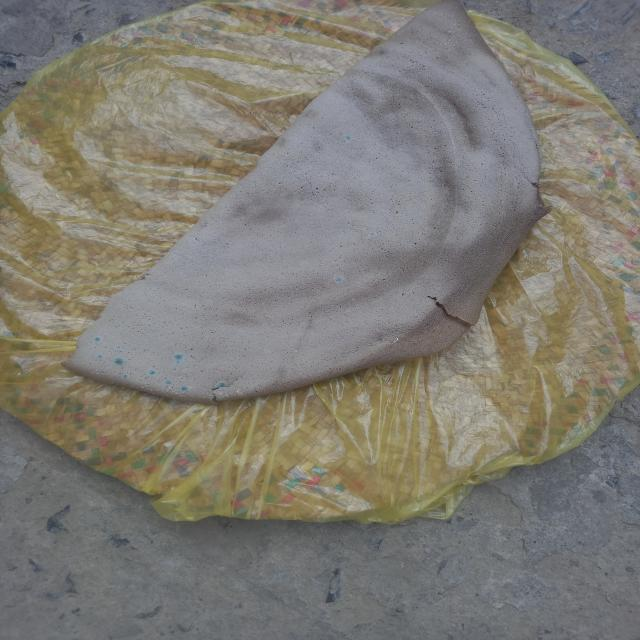injera_mold: (188, 393, 212, 402), (150, 388, 180, 395), (216, 390, 232, 400), (389, 337, 401, 346), (172, 395, 188, 401), (114, 358, 125, 366), (234, 388, 244, 396), (507, 80, 515, 89), (333, 276, 343, 282), (174, 354, 183, 360), (217, 382, 226, 388), (148, 370, 156, 376), (180, 386, 188, 392), (140, 386, 150, 390), (165, 380, 172, 385), (94, 337, 102, 341), (345, 136, 352, 140), (96, 354, 102, 358), (122, 375, 128, 379), (121, 382, 128, 385), (444, 42, 450, 45), (116, 345, 120, 349), (176, 361, 180, 363), (95, 369, 98, 371), (96, 372, 99, 374), (185, 370, 188, 372), (402, 333, 405, 335), (382, 338, 385, 340), (453, 45, 456, 47), (448, 30, 451, 32), (92, 372, 94, 374), (396, 331, 398, 333), (386, 330, 388, 332), (448, 39, 450, 41), (440, 43, 442, 45), (436, 42, 438, 43)
